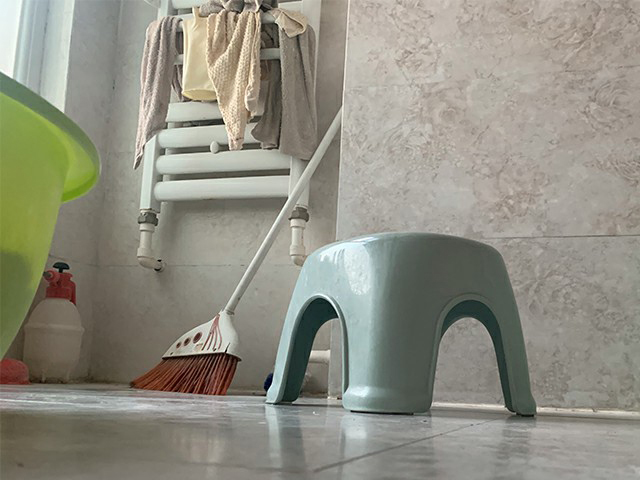stool: (264, 232, 537, 418)
